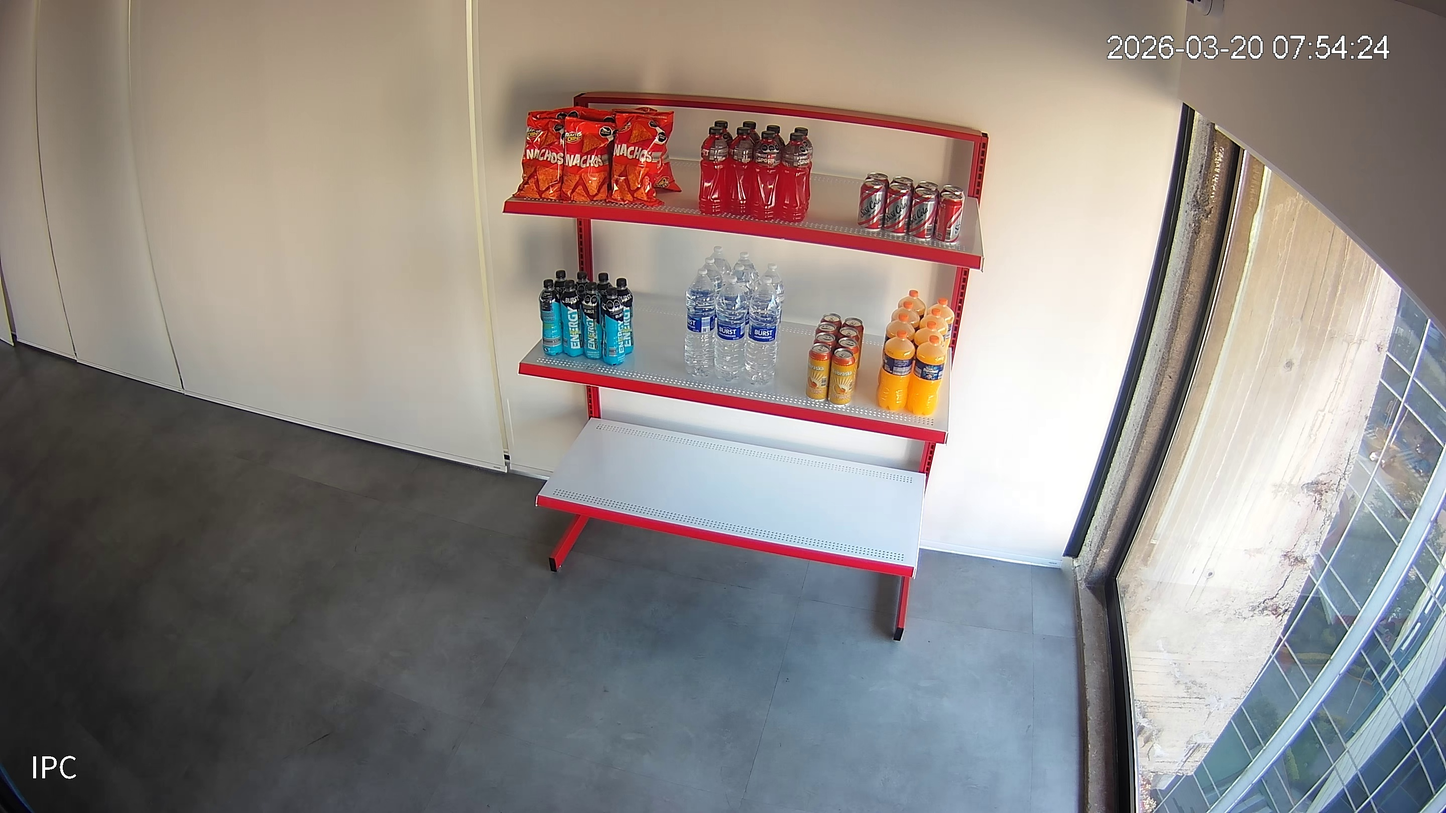agua_burst: (744, 277, 780, 385), (701, 256, 723, 296), (737, 252, 759, 291)
burst_energetica_roja: (728, 127, 755, 215), (714, 120, 734, 148), (766, 125, 785, 152)
burst_energy: (602, 288, 626, 365), (539, 279, 562, 356), (575, 271, 589, 298)
nachos_naturasol: (606, 110, 675, 206), (513, 116, 566, 200), (531, 106, 580, 121)
nebraska_mango: (806, 343, 833, 401), (815, 322, 839, 341), (836, 326, 859, 343)
sisi_cola: (857, 180, 887, 230), (908, 189, 937, 240), (934, 191, 962, 243)
sun_paradise_naranja: (907, 335, 947, 416), (878, 312, 915, 384), (920, 308, 947, 341)
